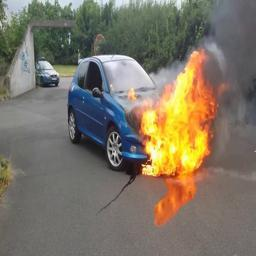fire: (131, 50, 218, 176)
